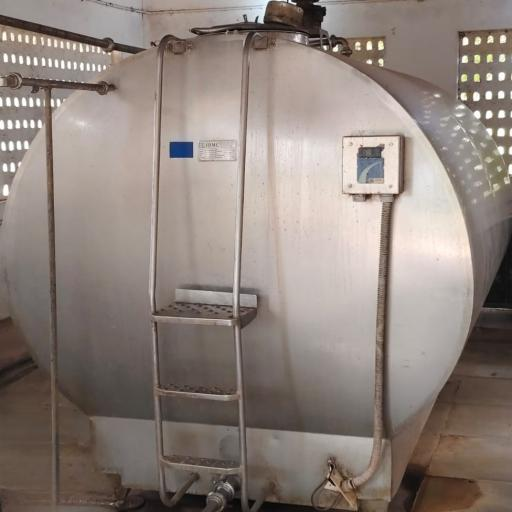silo: (2, 16, 511, 505)
